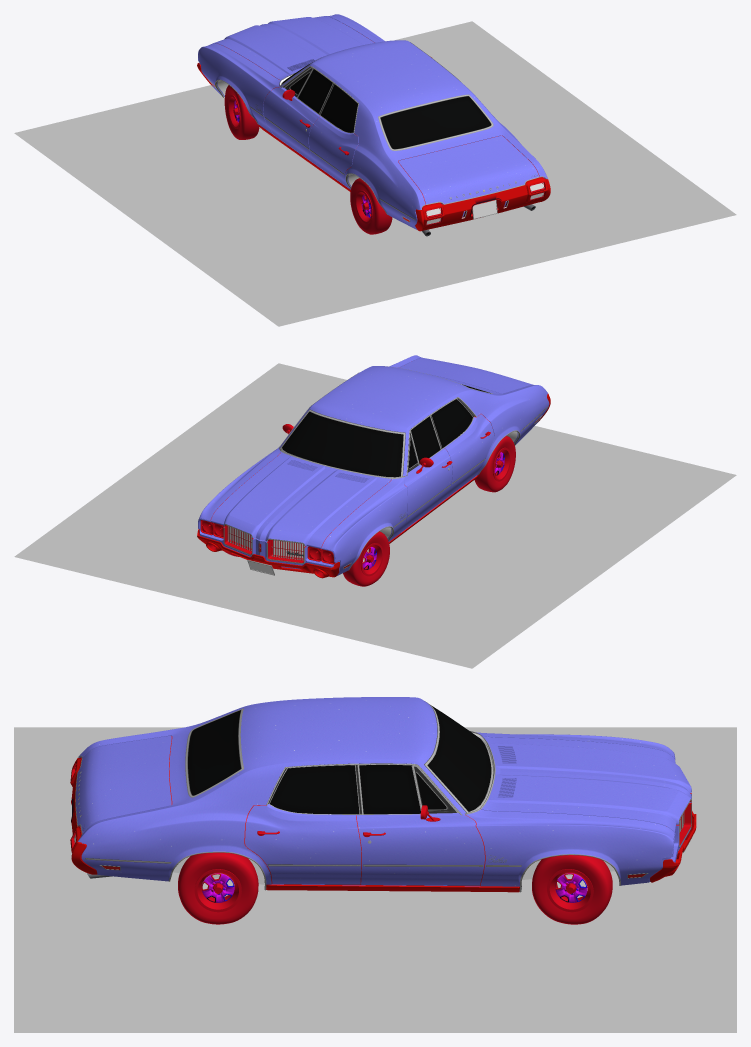
File: cutlass-sketchfab.fbx
3 renders of one model, top to bottom at view 1: azimuth 30°, elevation 25°; view 2: azimuth 150°, elevation 25°; view 3: azimuth 270°, elevation 25°, orthographic. The views are drawn at different scales.
Visible parts, largest first — view 1: ground, body, glass, chrome, wheels, glass2, trim; view 2: ground, body, glass, chrome, wheels, trim, glass2, black; view 3: ground, body, wheels, glass, glass2, trim, chrome, black.
Boxes of the visible parts, bbox=[...] form: ground: bbox=[14, 21, 736, 326]; body: bbox=[198, 14, 547, 229]; glass: bbox=[282, 63, 490, 149]; chrome: bbox=[197, 63, 550, 231]; wheels: bbox=[224, 85, 392, 234]; glass2: bbox=[290, 69, 357, 132]; trim: bbox=[215, 42, 546, 219]; ground: bbox=[14, 363, 736, 668]; body: bbox=[198, 355, 549, 575]; glass: bbox=[282, 384, 490, 477]; chrome: bbox=[197, 393, 550, 578]; wheels: bbox=[224, 436, 515, 586]; trim: bbox=[223, 366, 547, 570]; glass2: bbox=[408, 399, 472, 468]; black: bbox=[230, 431, 517, 558]; ground: bbox=[14, 727, 736, 1032]; body: bbox=[76, 697, 691, 886]; wheels: bbox=[178, 852, 612, 924]; glass: bbox=[188, 705, 491, 811]; glass2: bbox=[270, 765, 446, 814]; trim: bbox=[75, 701, 691, 892]; chrome: bbox=[70, 757, 696, 892]; black: bbox=[173, 732, 614, 884].
Bounding box in the file's own units: 477 × 114 × 477.
